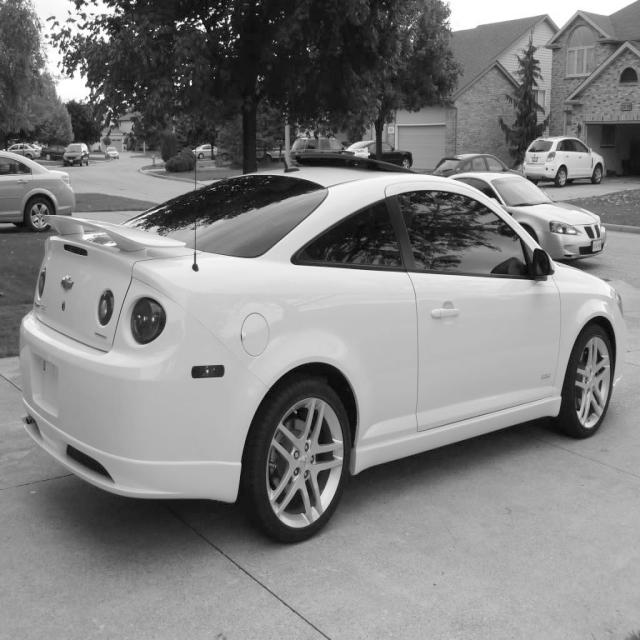car: (446, 170, 606, 262), (523, 135, 605, 187), (190, 142, 229, 160), (104, 146, 120, 159)
plat_license: (18, 156, 626, 542)
